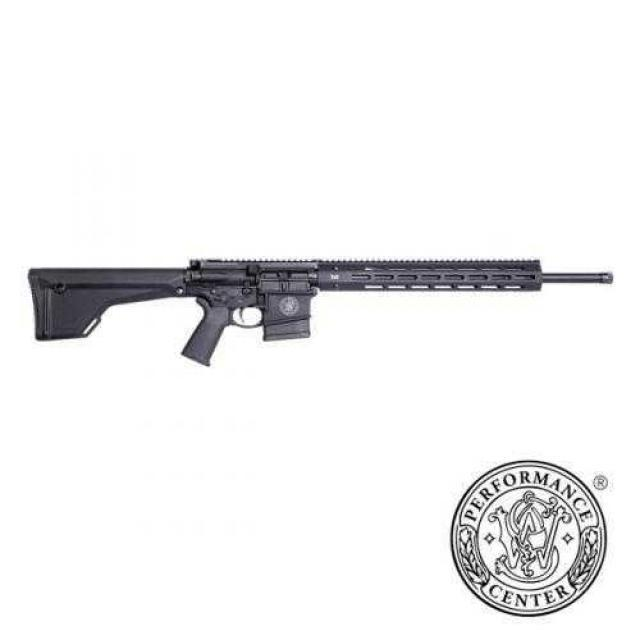weapon: (26, 215, 620, 375)
